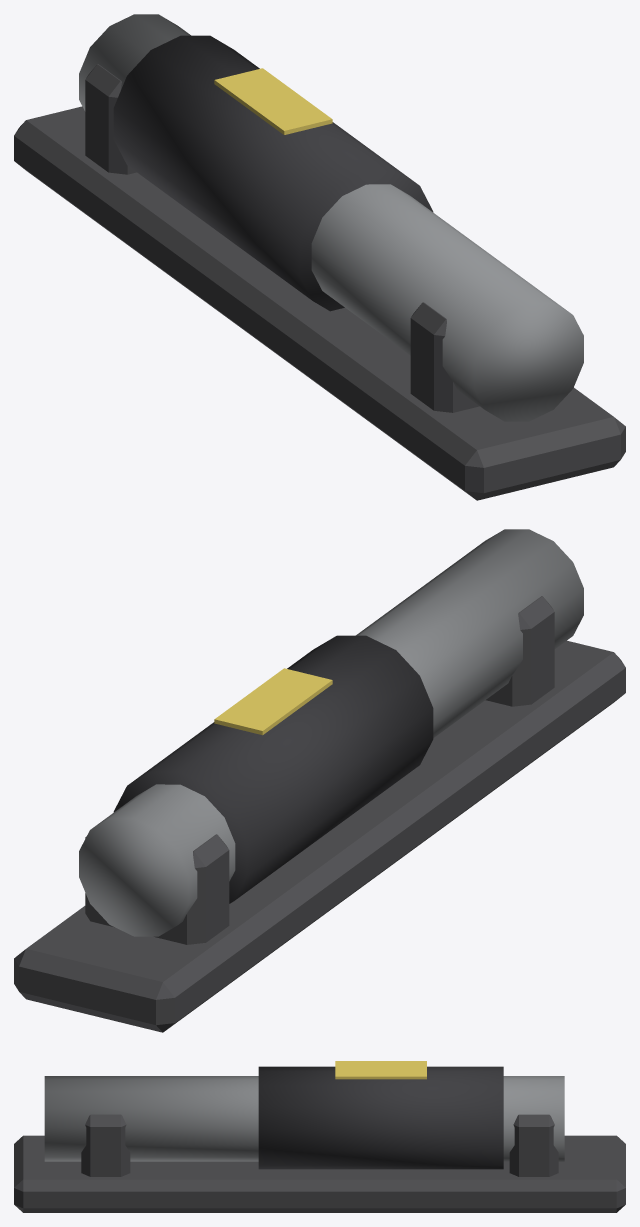
File: part_tlumeni.glb
3 renders of one model, top to bottom at view 1: azimuth 30°, elevation 25°; view 2: azimuth 150°, elevation 25°; view 3: azimuth 270°, elevation 25°, orthographic. The views are drawn at different scales.
Visible parts, largest first — view 1: Tlumeni; view 2: Tlumeni; view 3: Tlumeni.
Boxes of the visible parts, x1,y1,x2,y2 form: Tlumeni: (14, 14, 625, 500); Tlumeni: (14, 529, 625, 1032); Tlumeni: (14, 1061, 625, 1212).
Size of the model in its own units: 0.04 by 0.044 by 0.2.
